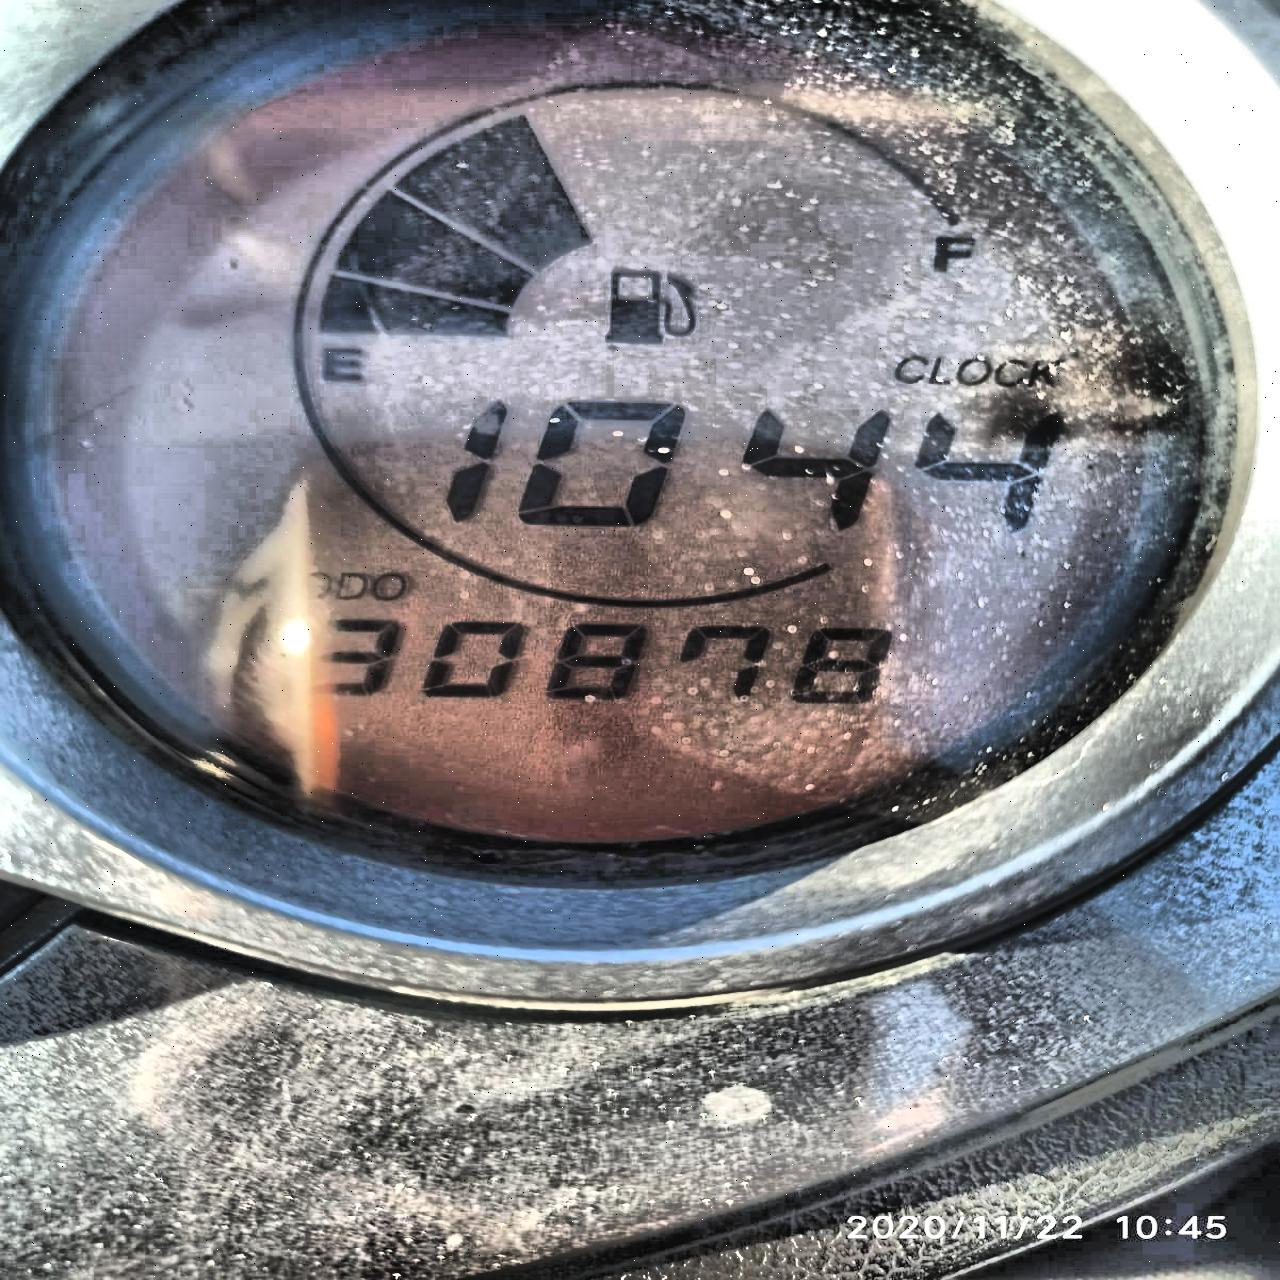0: (525, 396, 689, 530), (417, 620, 525, 697)
1: (437, 394, 505, 522)
3: (302, 618, 401, 696)
4: (741, 406, 891, 532), (918, 409, 1058, 535)
7: (675, 624, 771, 699)
8: (787, 626, 892, 704), (545, 621, 648, 700)
X: (318, 340, 368, 386), (931, 232, 975, 273), (369, 571, 409, 601), (298, 570, 333, 601), (333, 571, 367, 601), (893, 354, 927, 383), (994, 359, 1027, 386), (955, 359, 990, 383), (1028, 359, 1060, 386), (927, 355, 953, 387)
odometer: (4, 13, 1170, 858)
